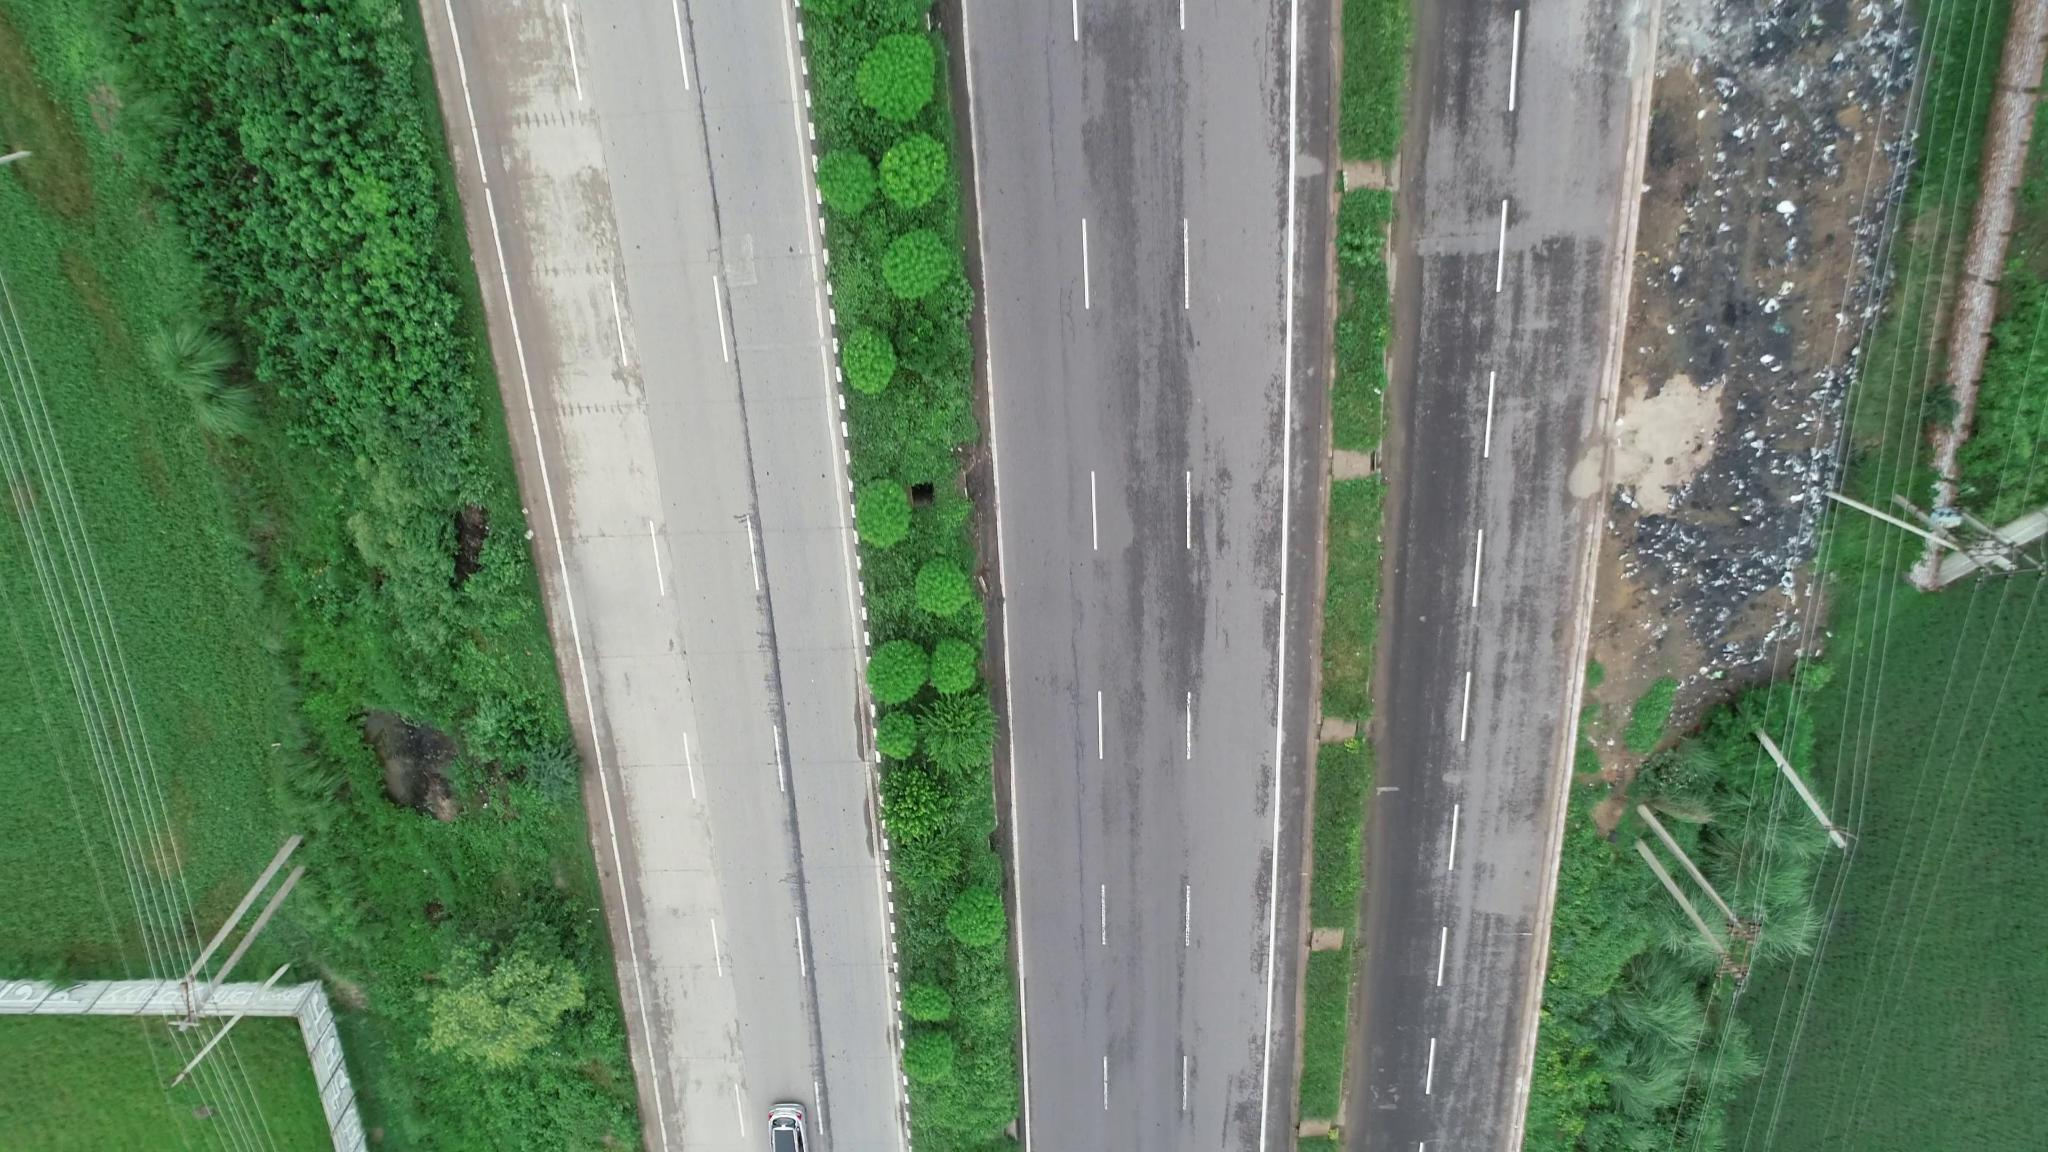Cracks: (1054, 608, 1096, 1003)
